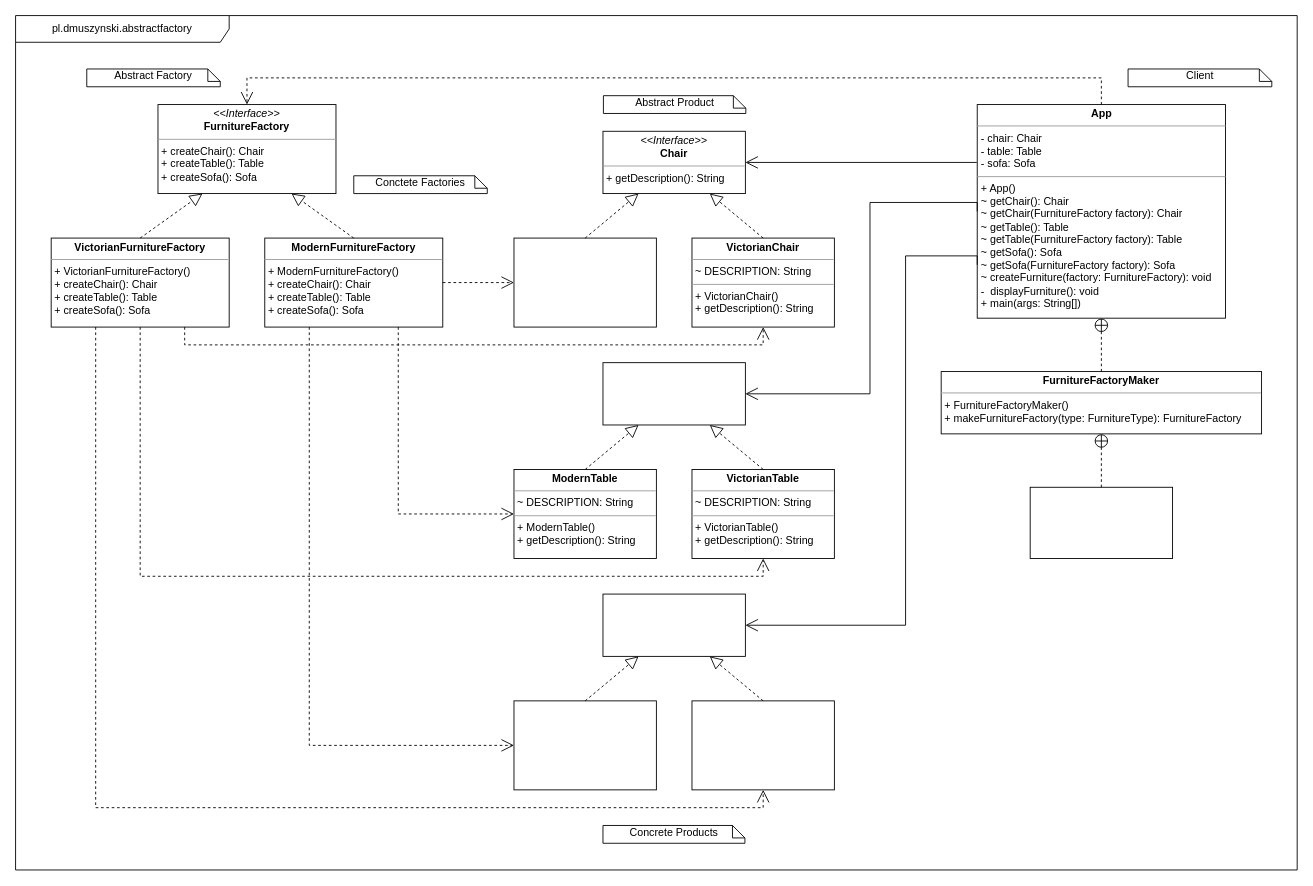
Image size: 1313x886. Some labels were removed from this diagram. Here are the shapes that lost their labels. From the top down, the box of each, then its label:
(513, 237, 656, 327): ModernChair ~ DESCRIPTION: String + ModernChair() + getDescription(): String
(602, 362, 745, 425): <<Interface>> Table + getDescription(): String
(1029, 486, 1173, 558): <<Enumeration>> FurnitureType VICTORIAN MODERN
(602, 593, 745, 656): <<Interface>> Sofa + getDescription(): String
(513, 700, 656, 790): ModernSofa ~ DESCRIPTION: String + ModernSofa() + getDescription(): String
(691, 700, 834, 790): VictorianSofa ~ DESCRIPTION: String + VictorianSofa() + getDescription(): String
